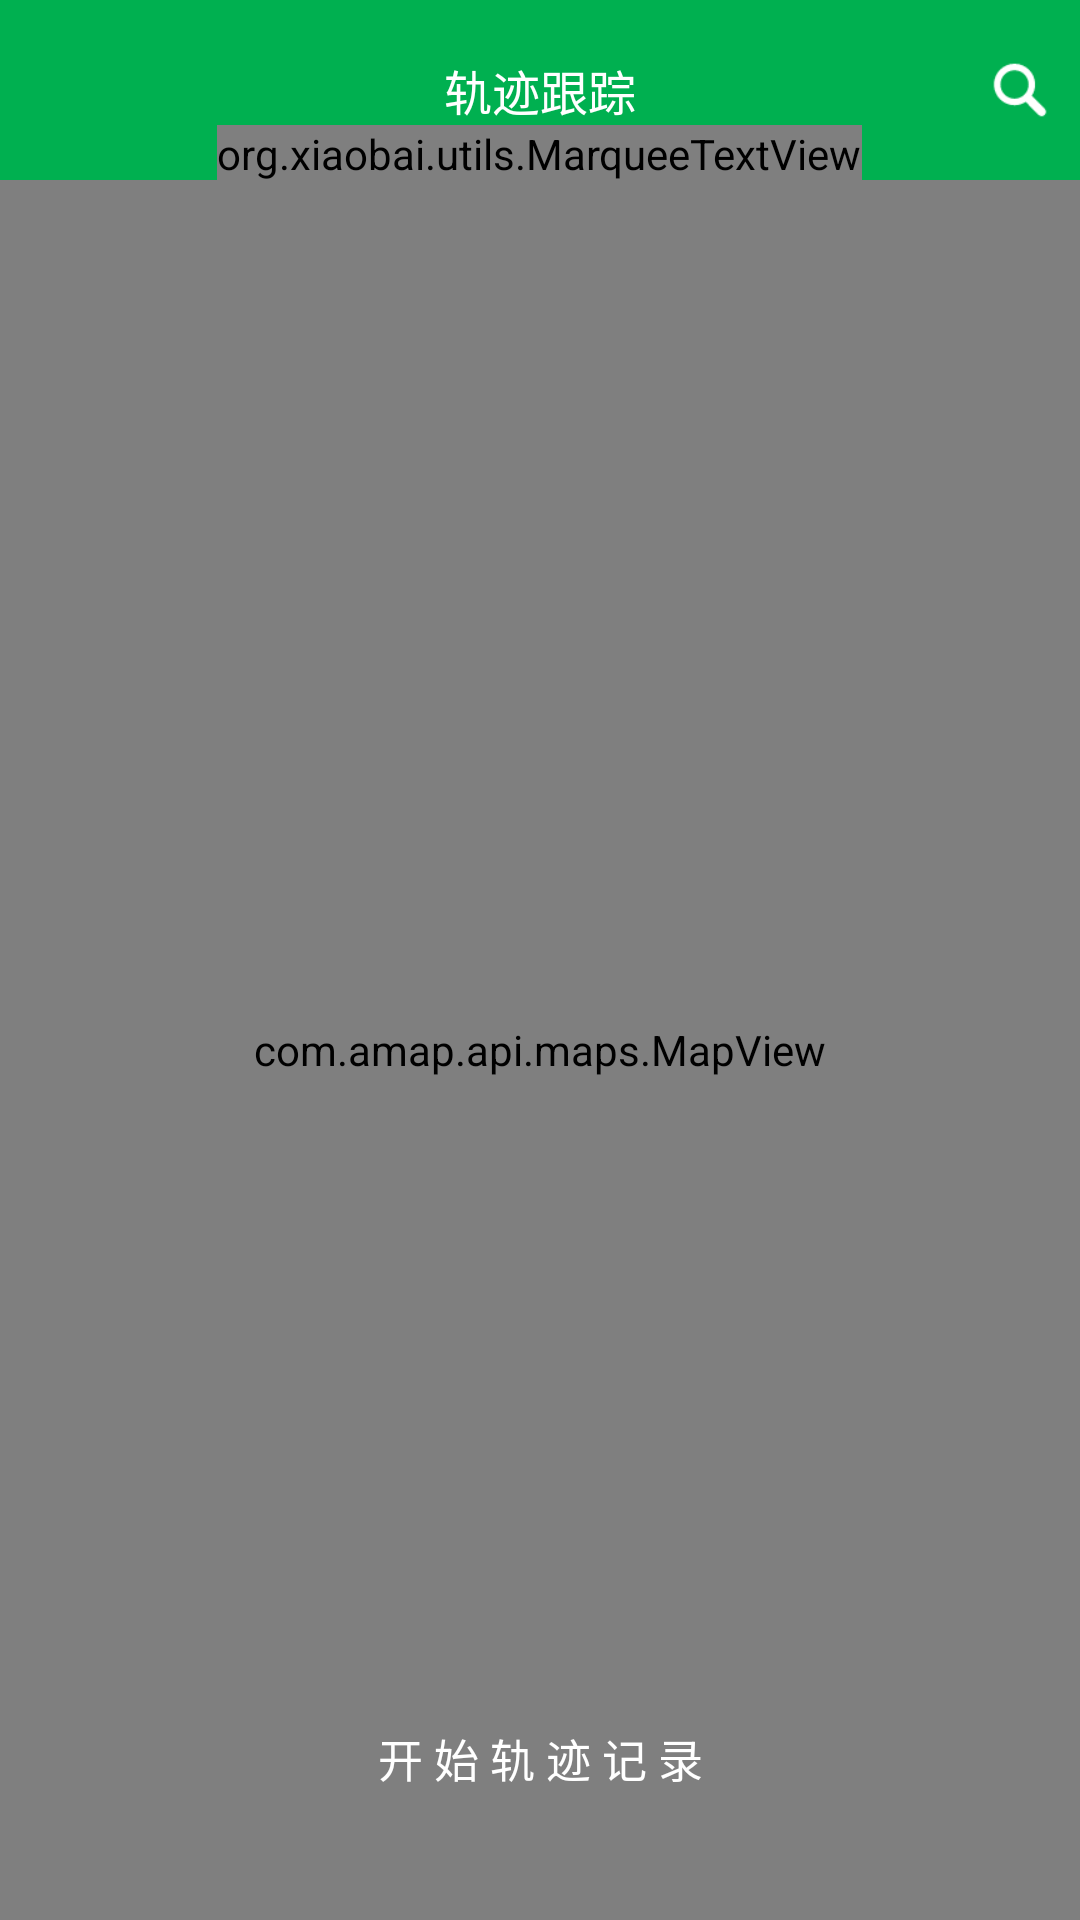

Icons on this 1080w x 1920h Android screen, each with its box as (x1, y1, x2, y2):
query: (993, 63, 1047, 117)
